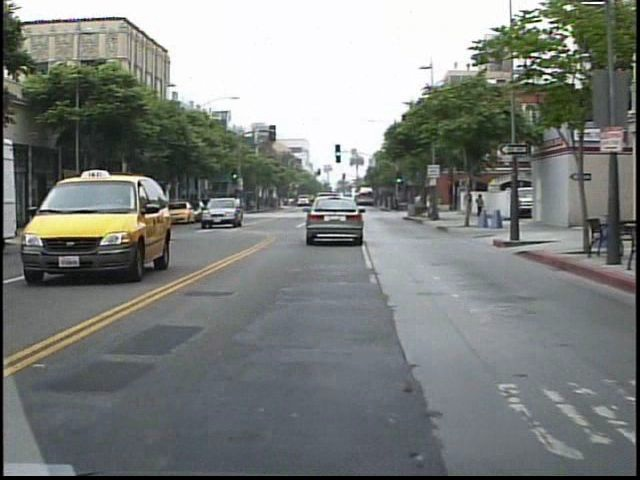person: (454, 184, 469, 225), (404, 188, 422, 219), (467, 188, 482, 223)
